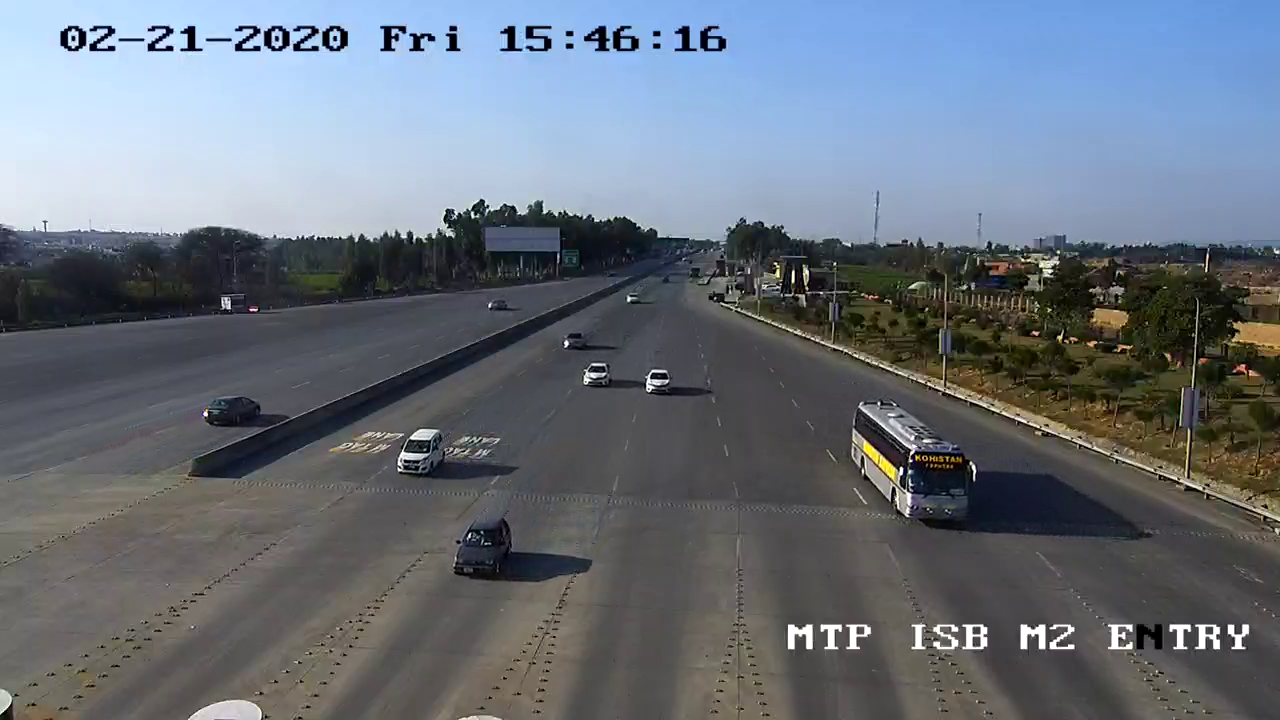f1: (444, 510, 520, 586), (391, 423, 449, 483)
f4: (840, 389, 985, 535)
